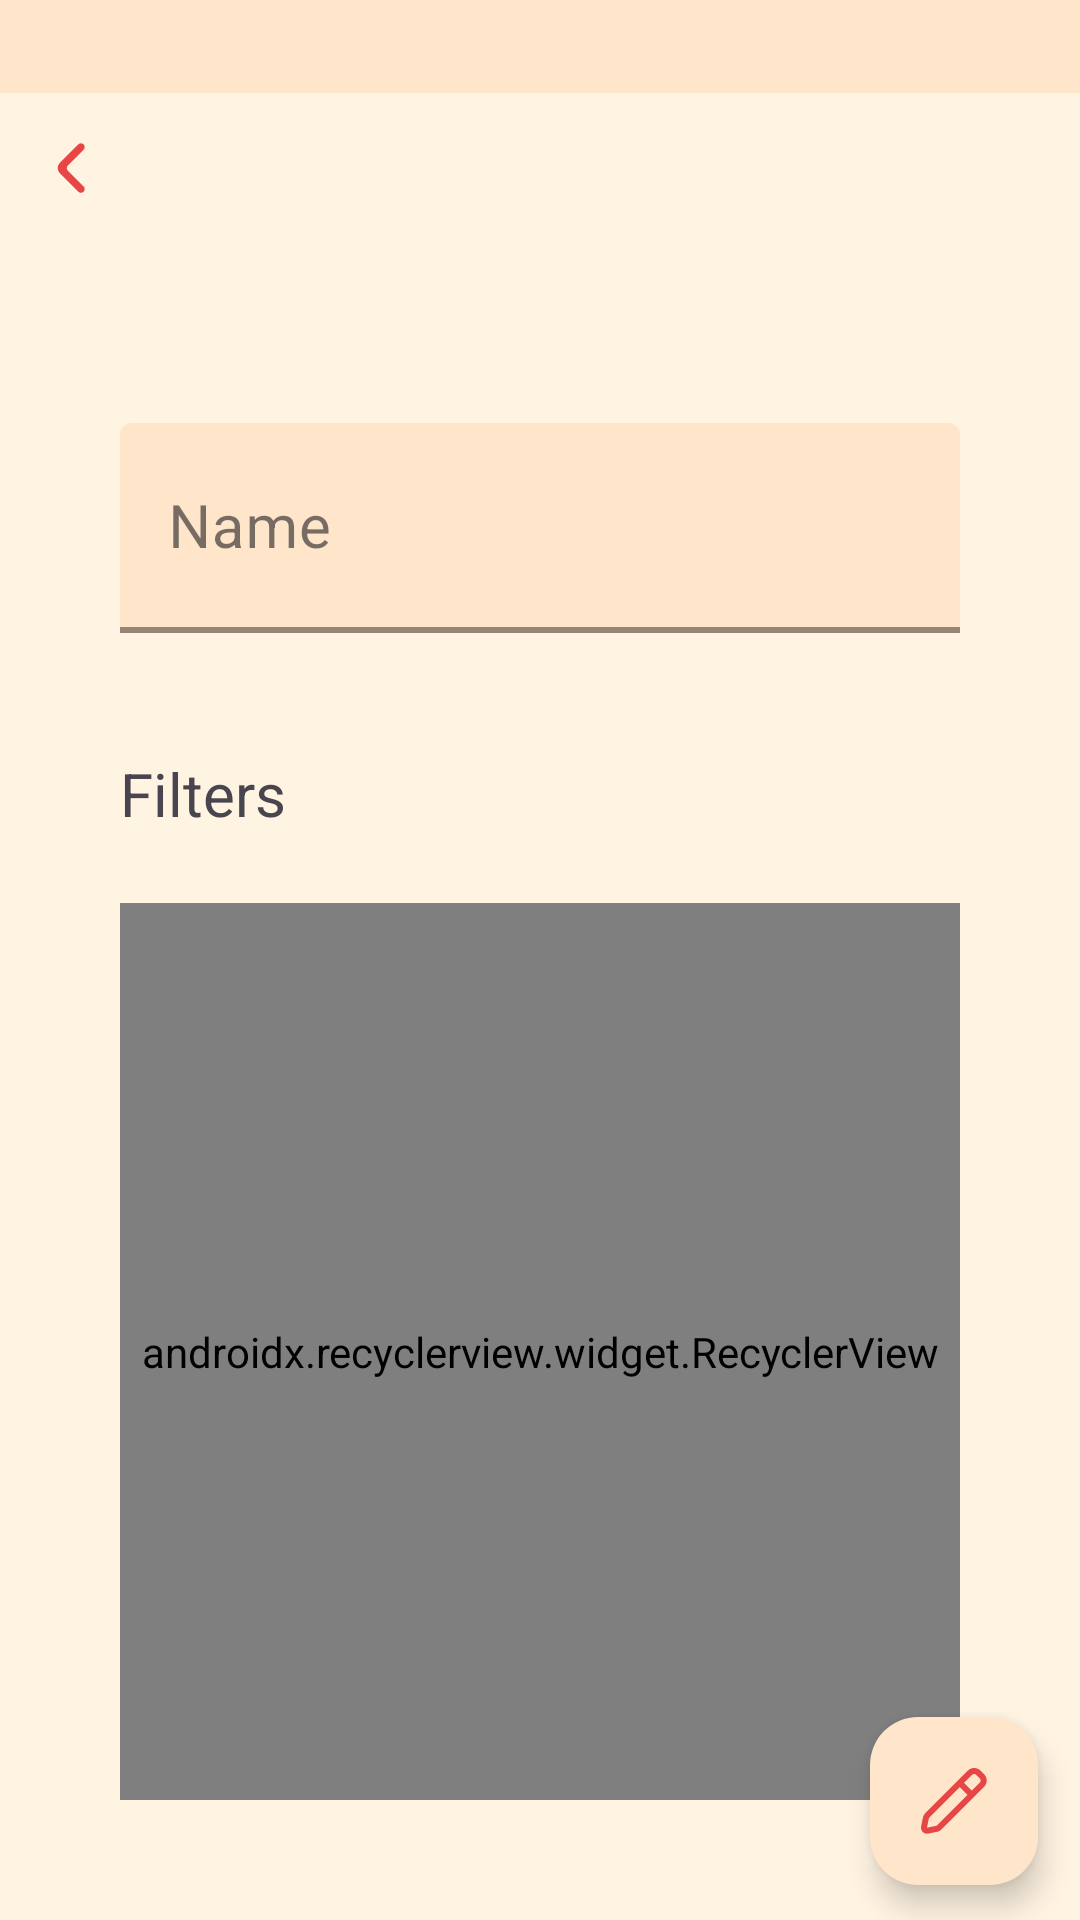

Icons on this 1080w x 1920h Android screen, each with the point to tap as point (x, y):
Back: point (71, 168)
Edit: point (954, 1801)
